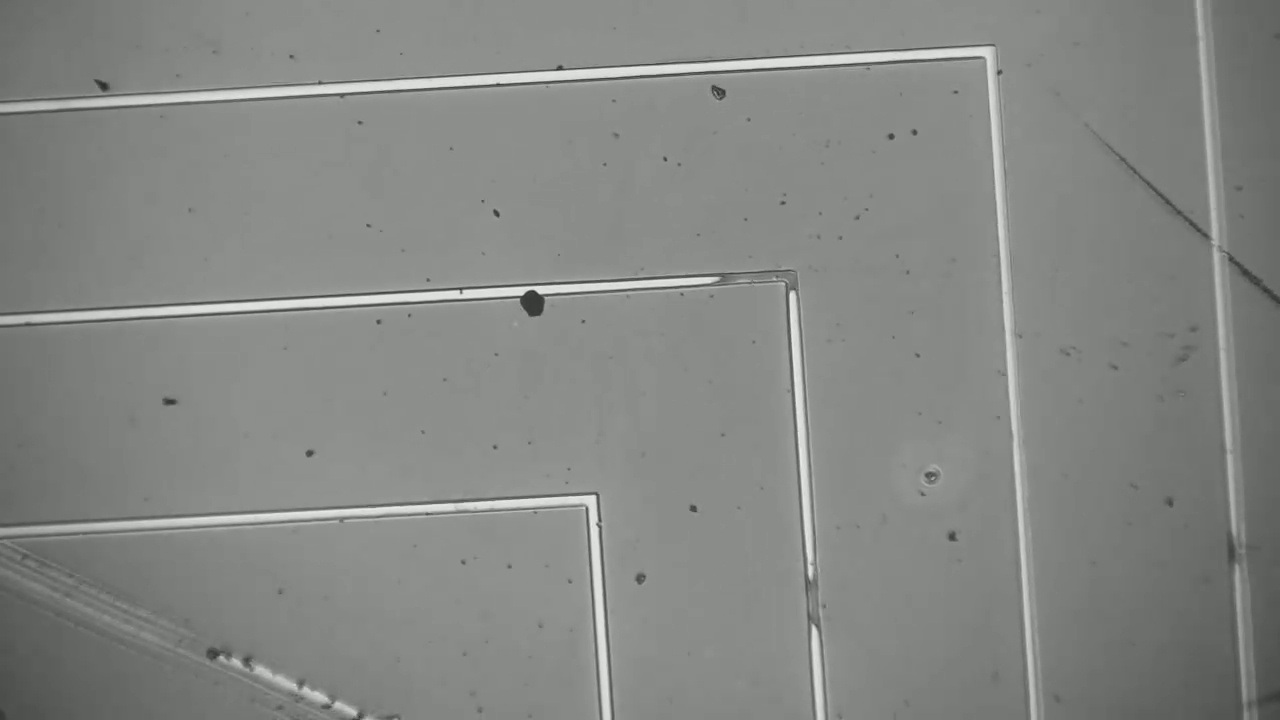edge_bite: (581, 515, 608, 539)
gray_line: (705, 265, 816, 293), (797, 560, 829, 641), (1217, 516, 1252, 576), (775, 256, 806, 311)
scratch: (0, 543, 354, 712), (1049, 95, 1279, 299)
stains_enbedded: (509, 275, 555, 326)
